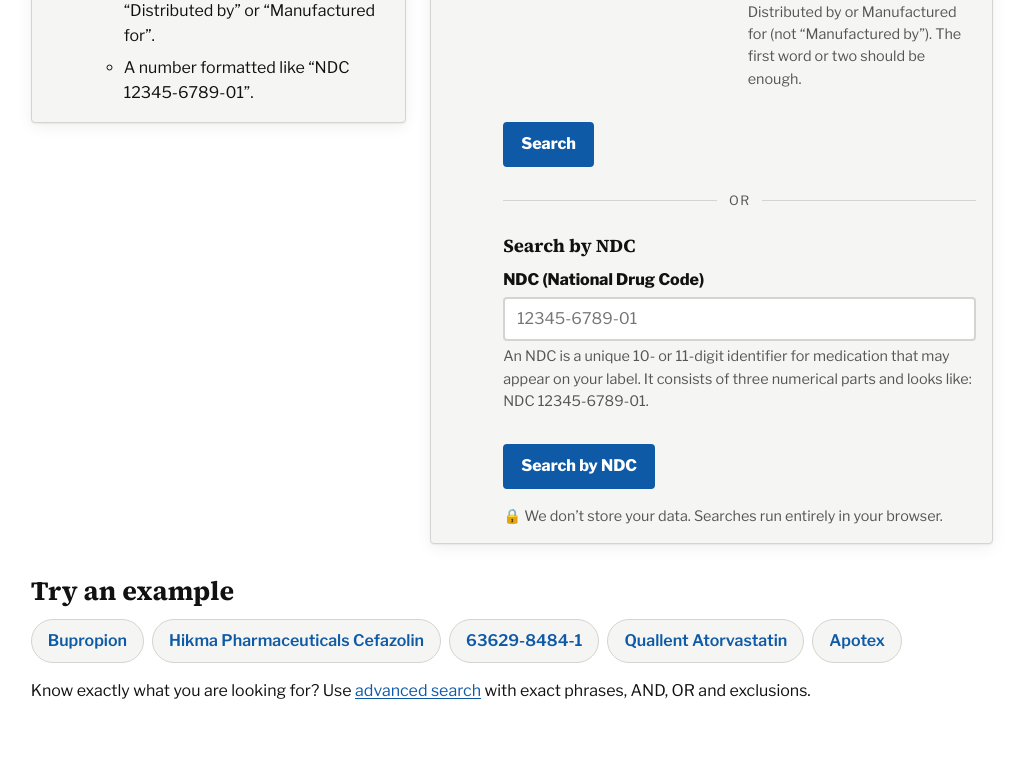
Test: GuidedSearch › validates an empty NDC
(page scrolled)
Click the button "Search by NDC" at (579, 467), box [503, 444, 655, 489]
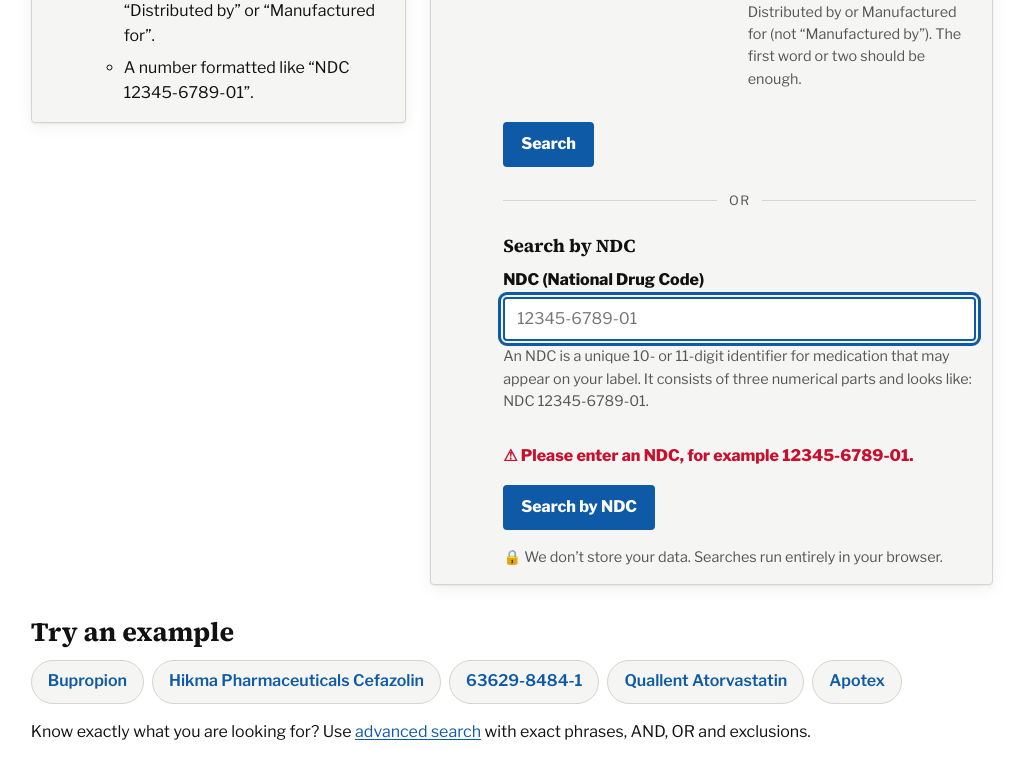
Check: the message shows "enter an NDC", box [521, 446, 914, 465]
